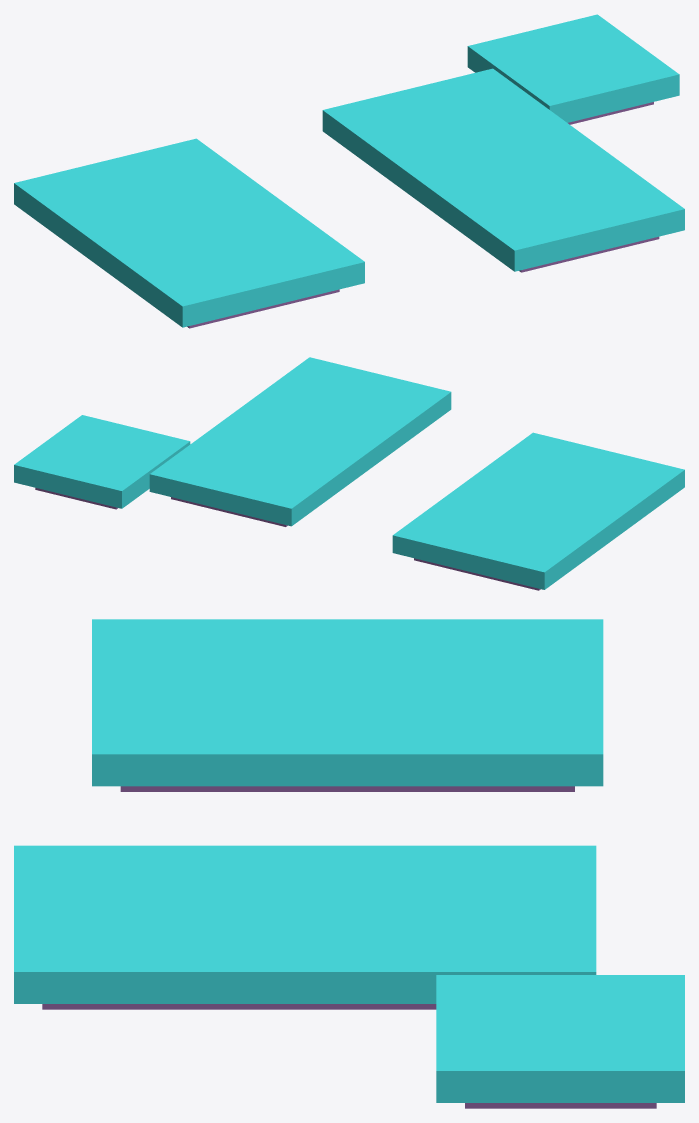
Rendered from wall-art-set.glb.
The picture shows the model from 3 angles, top to bottom: view 1: azimuth 30°, elevation 25°; view 2: azimuth 150°, elevation 25°; view 3: azimuth 270°, elevation 25°; orthographic projection. The views are drawn at different scales.
Parts seen in each view (by area): view 1: world; view 2: world; view 3: world.
Boxes of the visible parts, x1,y1,x2,y2 form: world: [14, 14, 684, 328]; world: [14, 357, 684, 590]; world: [14, 619, 684, 1108].
Size of the model in its own units: 1.5 by 0.0775 by 0.945.
